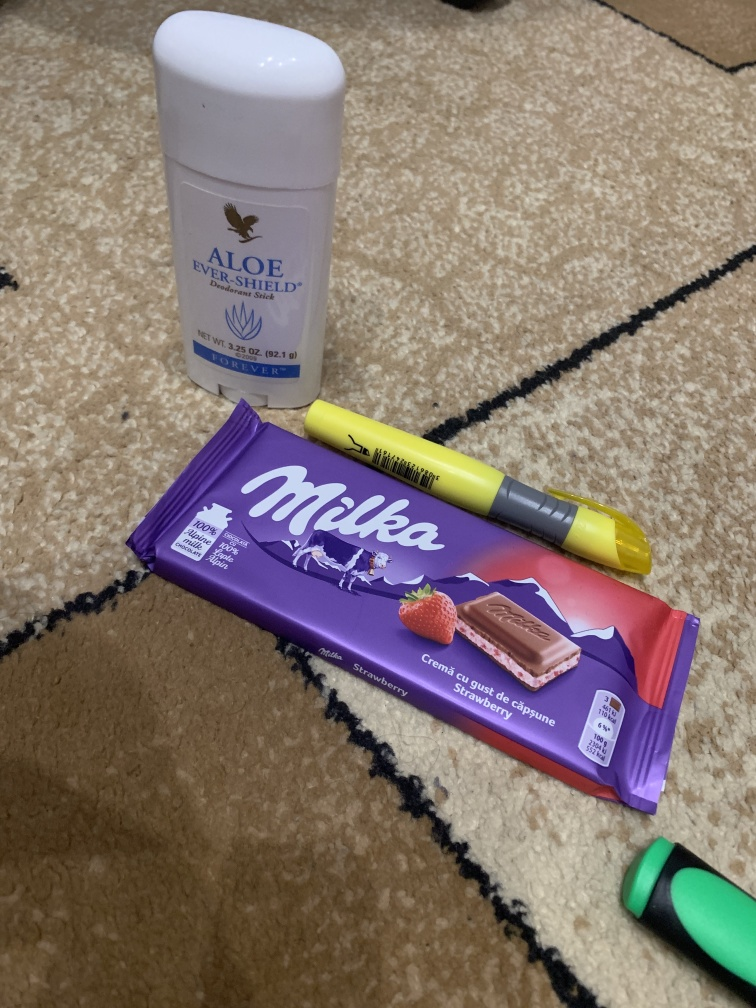milka: (110, 399, 709, 812)
